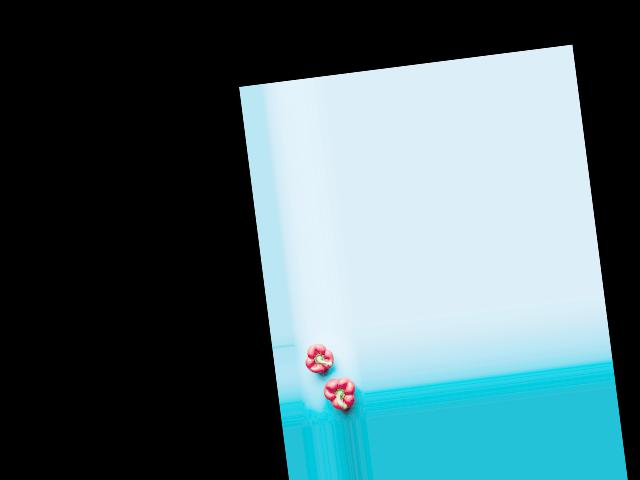bell_pepper: (317, 369, 357, 416)
